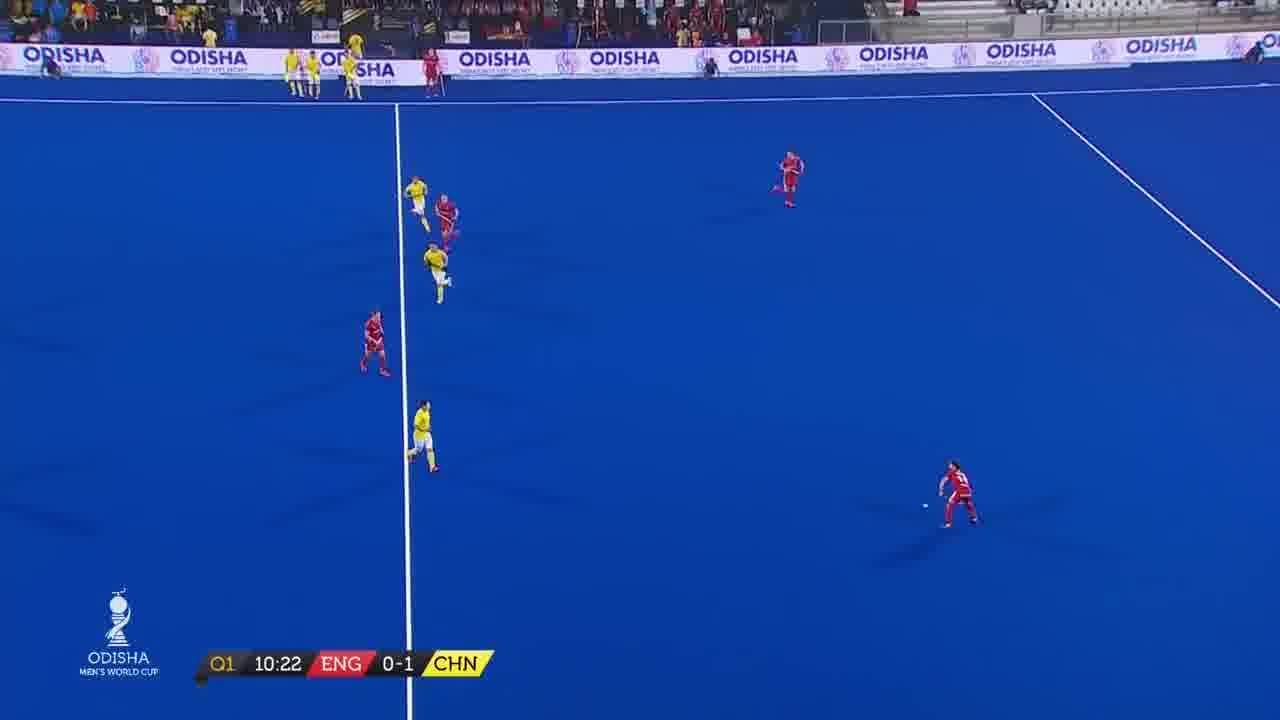ball: (921, 497, 932, 514)
